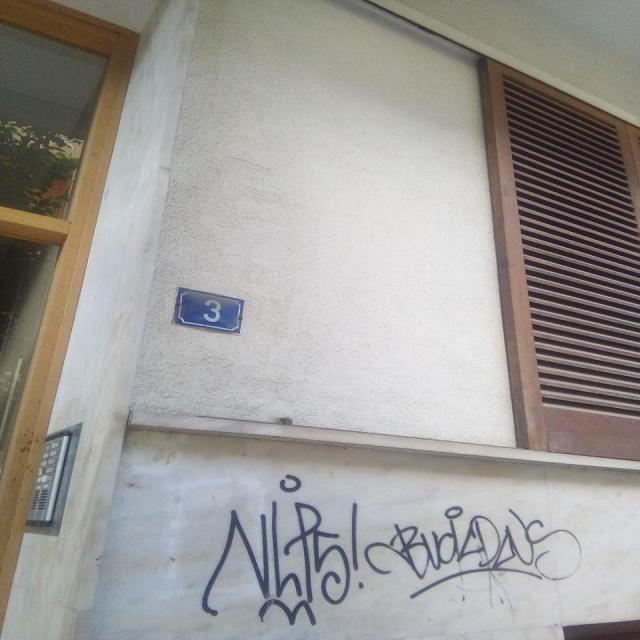nonspitting: (190, 472, 584, 624)
